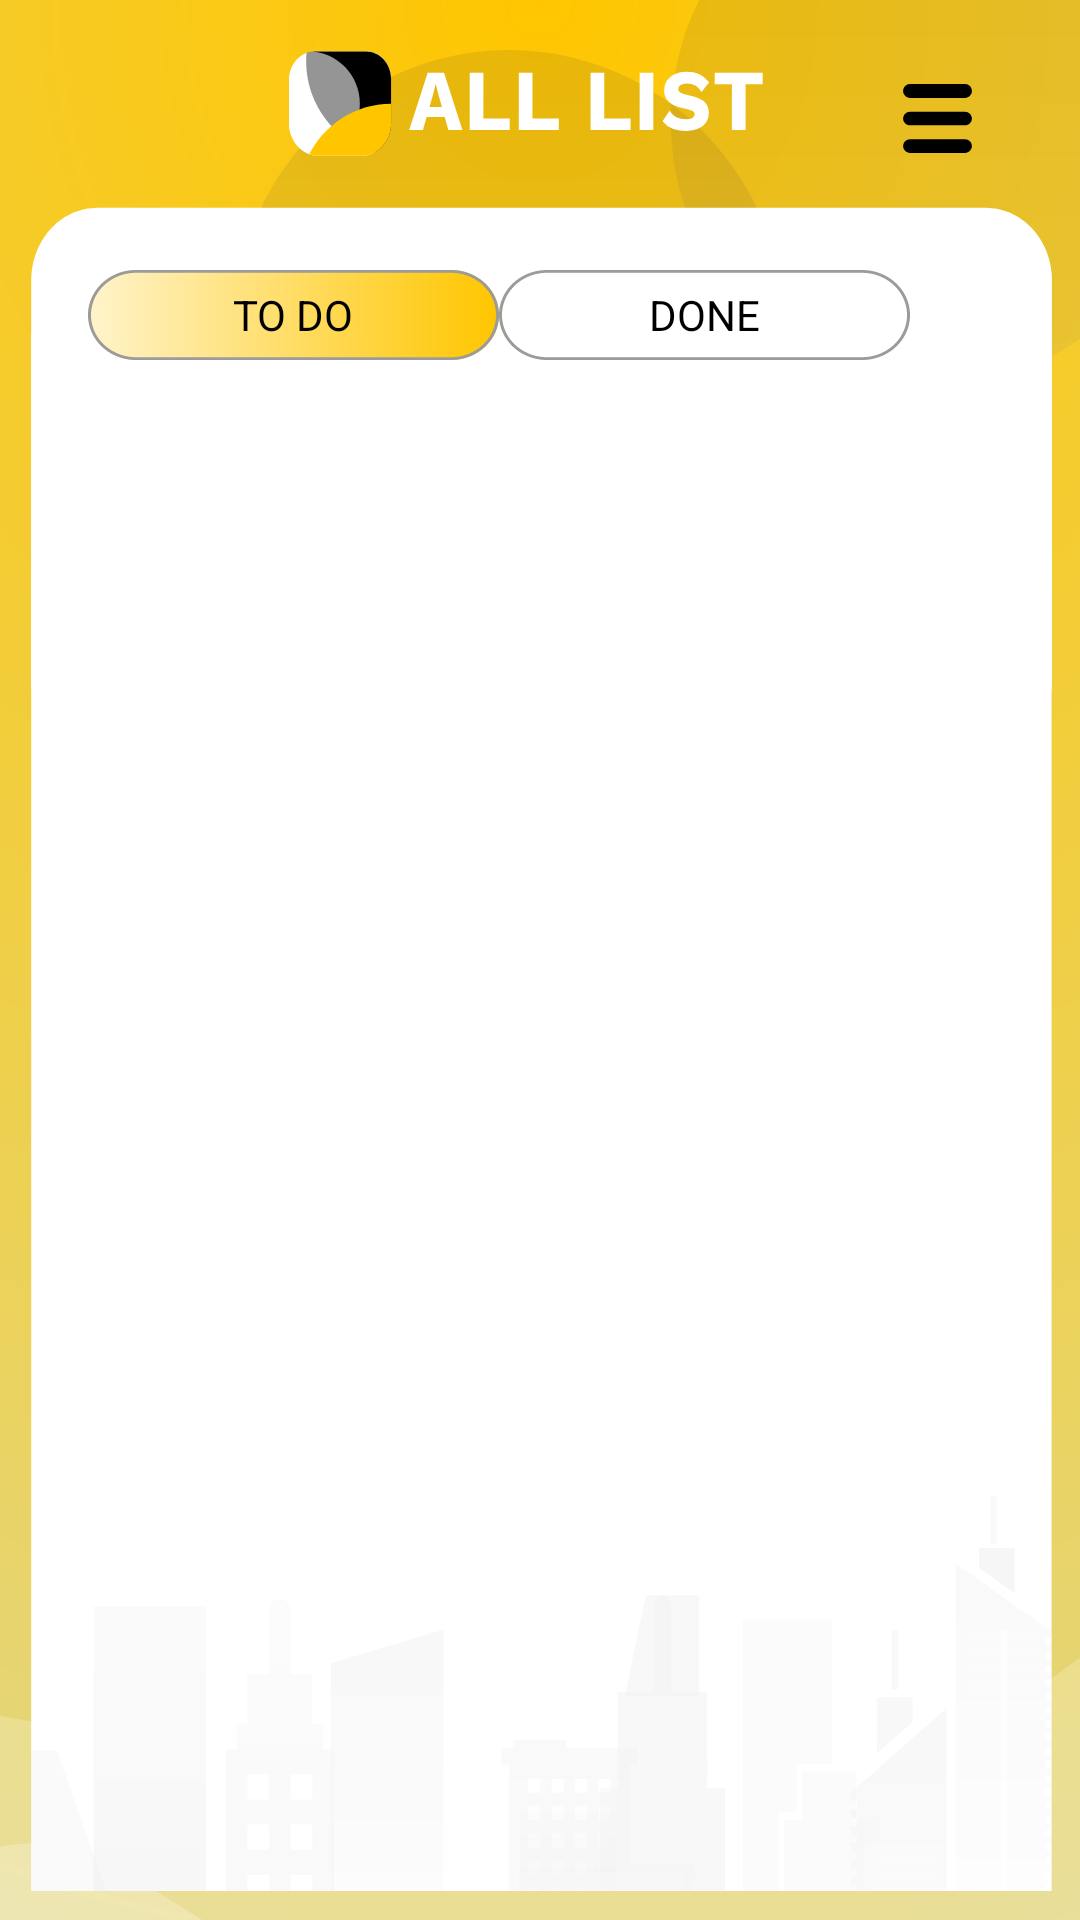

Named icons in this screenshot (1080w x 1920h) and their centers, point (x, y):
filter menu: point (937, 118)
